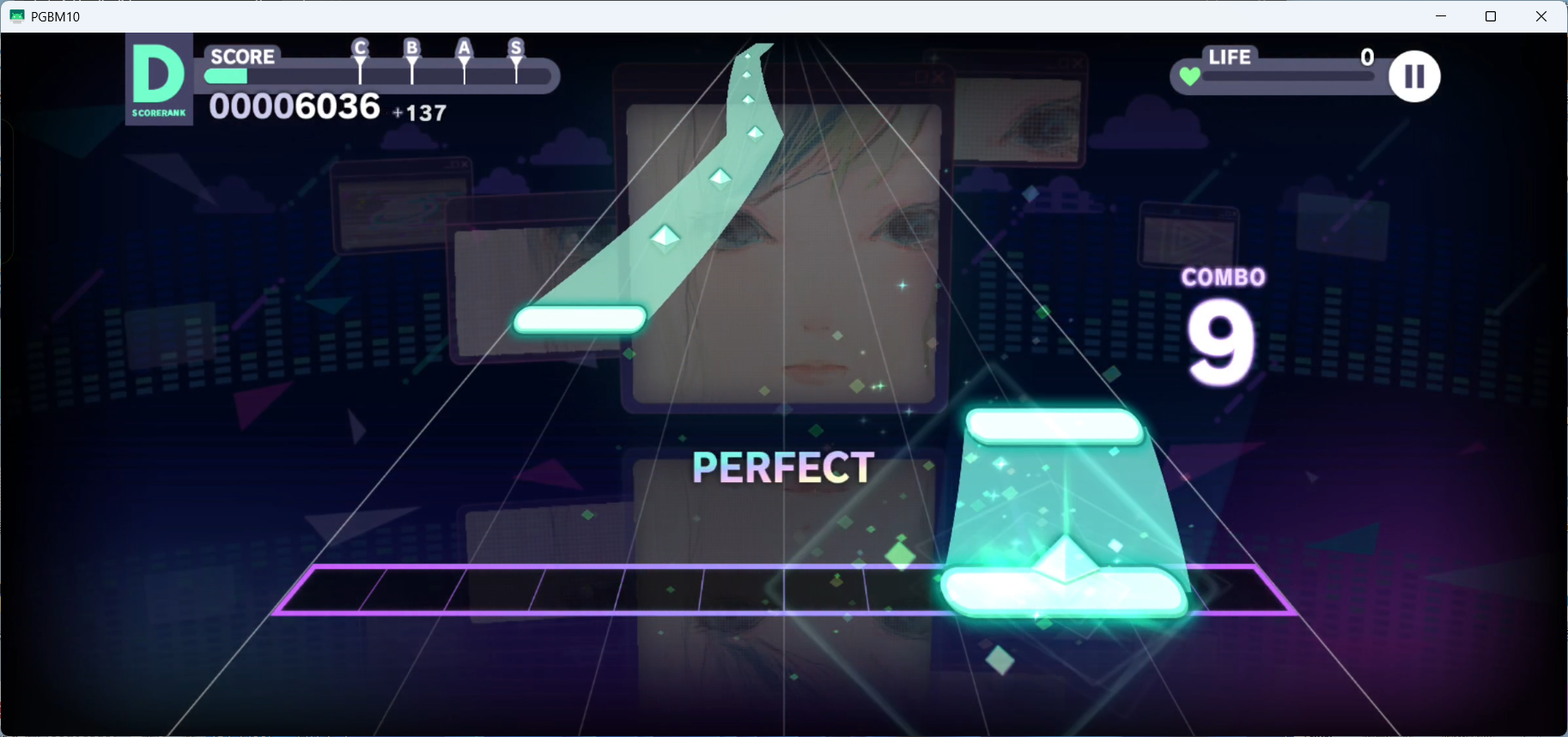hold: (531, 43, 783, 306), (943, 444, 1186, 566)
sweep: (650, 225, 680, 255), (709, 169, 732, 192), (748, 126, 763, 143), (742, 95, 754, 107), (742, 70, 751, 81), (744, 53, 751, 60)
tap: (941, 567, 1187, 621), (967, 408, 1146, 445), (513, 306, 646, 336)
